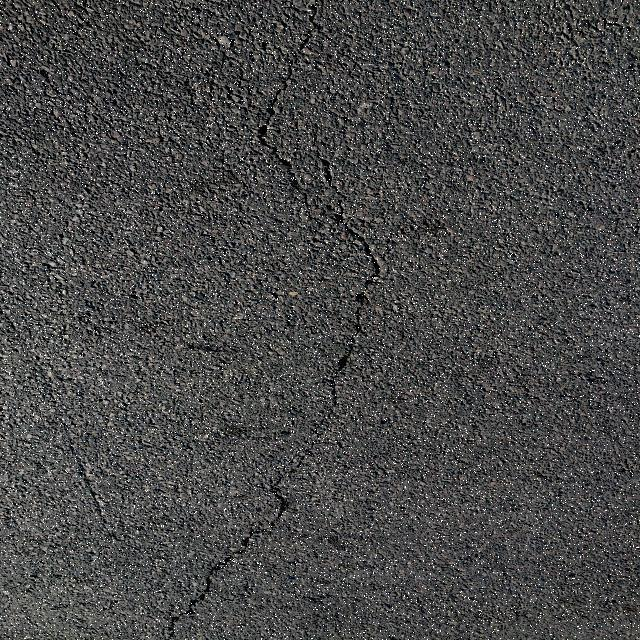moderate crack: (326, 209, 386, 387), (43, 565, 135, 632), (206, 412, 274, 444), (299, 579, 340, 606), (193, 333, 232, 354), (619, 455, 636, 477)
severe crack: (0, 8, 392, 639), (331, 249, 640, 640), (289, 6, 640, 284), (181, 251, 338, 404), (168, 461, 303, 634), (16, 392, 120, 536), (273, 440, 326, 501), (188, 565, 219, 610), (81, 471, 108, 520), (266, 481, 290, 523), (363, 248, 382, 281), (237, 531, 258, 554), (260, 103, 277, 128), (327, 382, 339, 410), (335, 352, 350, 372), (152, 129, 165, 144), (268, 288, 281, 302)
